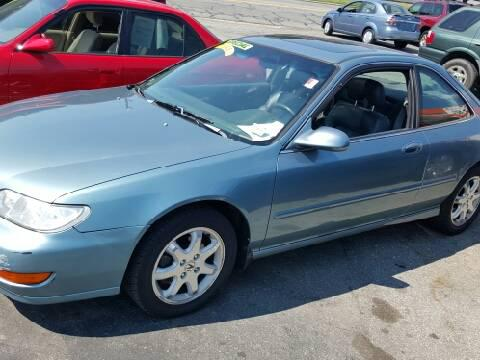acura: (1, 31, 480, 339)
